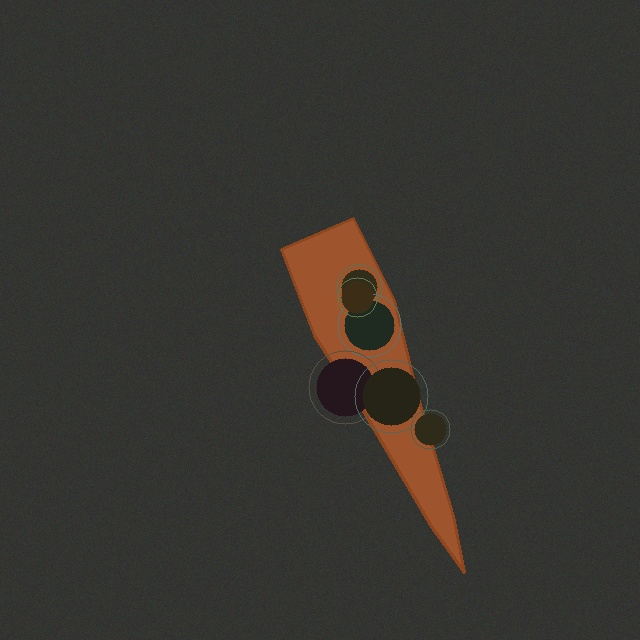Rotten_Carrot: (273, 210, 472, 580)
